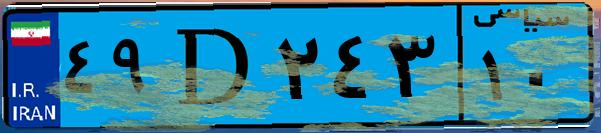0: (525, 38, 570, 115)
1: (475, 38, 525, 113)
2: (270, 28, 330, 110)
3: (385, 28, 445, 110)
4: (330, 28, 385, 110), (57, 26, 110, 100)
9: (110, 28, 158, 98)
D: (158, 12, 270, 120)
